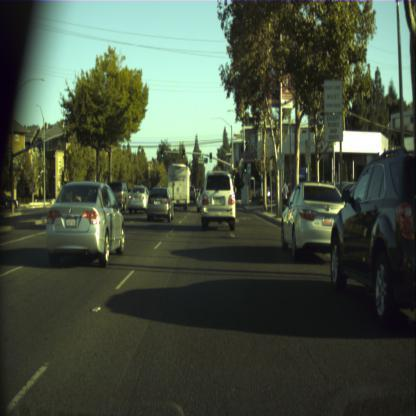Green: (243, 161, 247, 173), (232, 170, 236, 178), (209, 152, 212, 162), (182, 147, 184, 158), (161, 147, 163, 158)
